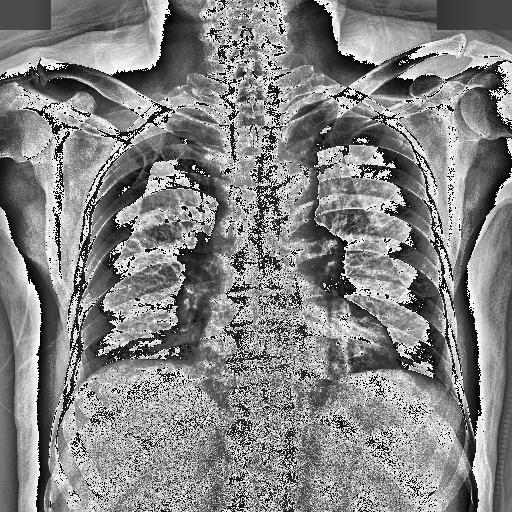0- Aortic enlargement: (258, 160, 318, 222), (264, 160, 318, 217), (264, 156, 320, 209)
11- Pleural thickening: (146, 105, 213, 129), (324, 90, 378, 117)
3- Cardiomegaly: (191, 309, 398, 371), (190, 340, 400, 380)
